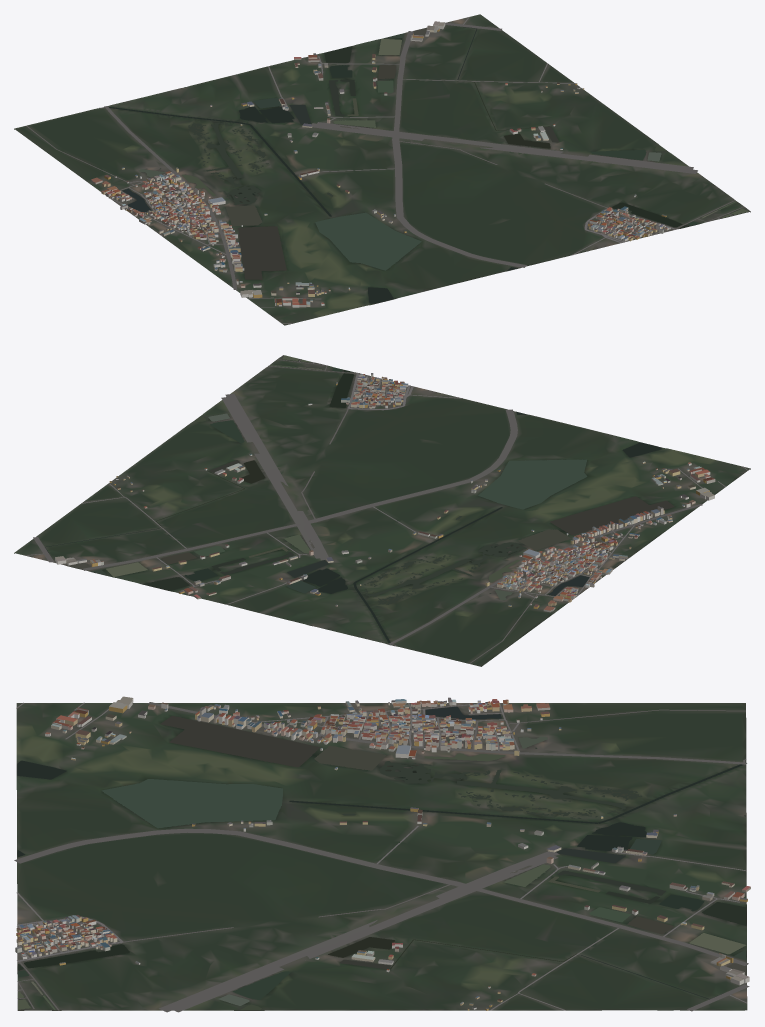
3 renders of one model, top to bottom at view 1: azimuth 30°, elevation 25°; view 2: azimuth 150°, elevation 25°; view 3: azimuth 270°, elevation 25°, orthographic. The views are drawn at different scales.
Parts seen in each view (by area): view 1: ground, water, buildings, roads; view 2: ground, water, buildings, roads; view 3: ground, water, buildings, roads.
Boxes of the visible parts, x1,y1,x2,y2 form: ground: (14,14,750,325); water: (108,27,748,303); buildings: (91,21,670,307); roads: (26,17,742,323); ground: (14,355,750,666); water: (45,355,674,645); buildings: (55,373,715,612); roads: (25,359,748,663); ground: (16,703,747,1010); water: (17,706,746,1010); buildings: (15,696,750,1010); roads: (14,702,749,1012).
Size of the model in its own units: 1419 by 23.44 by 1416.
